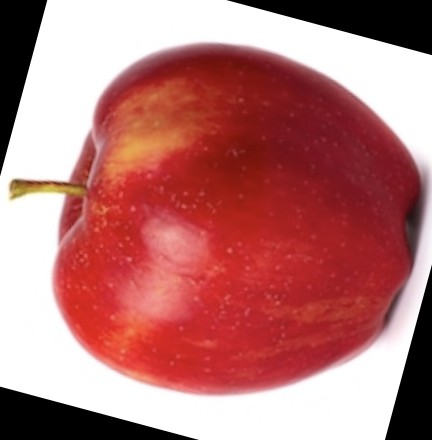fresh_apple: (50, 40, 425, 395)
